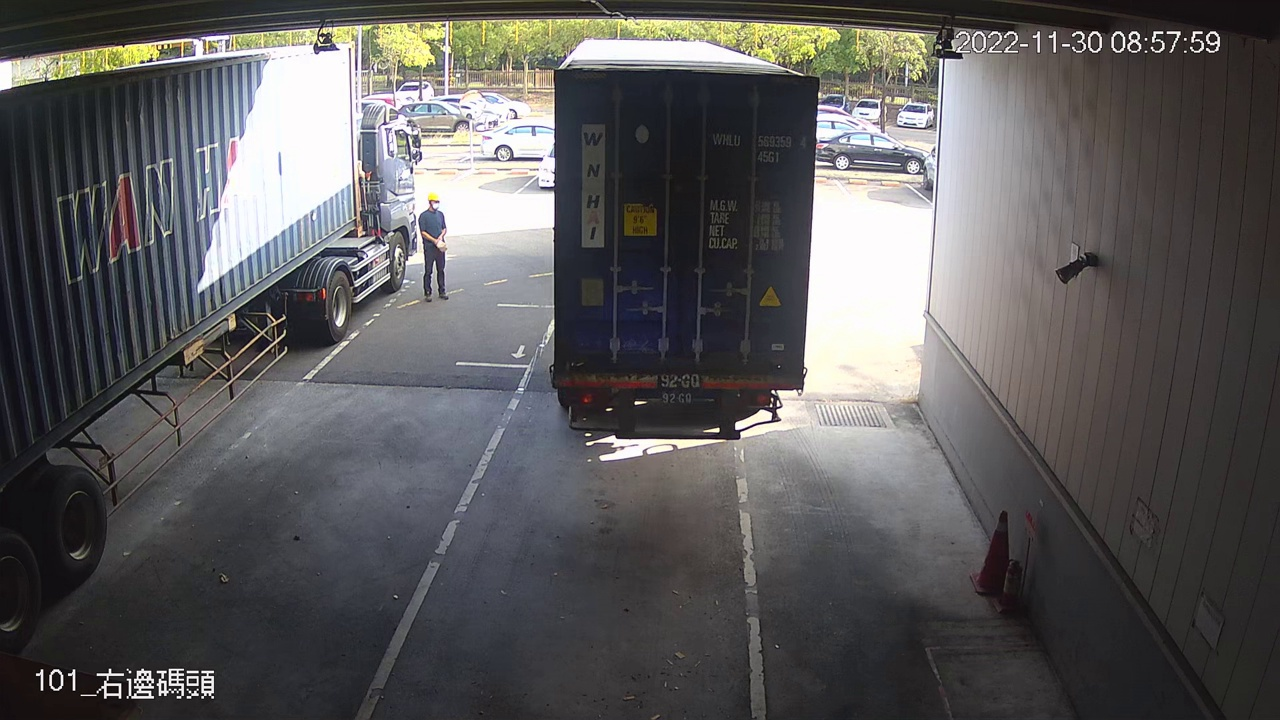container: (710, 127, 810, 168)
